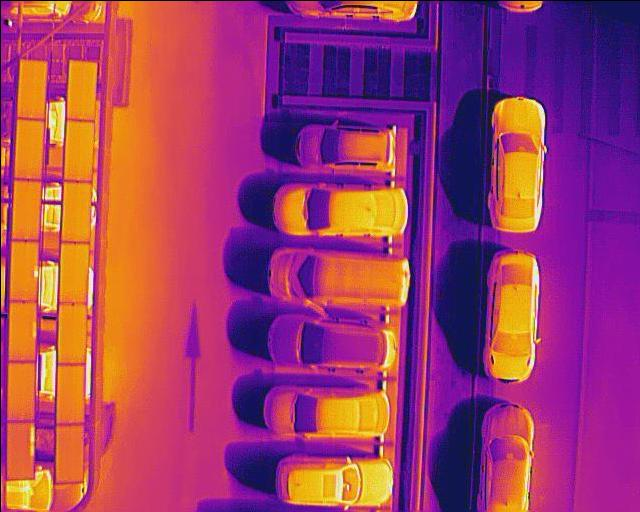Cell: (8, 239, 38, 302)
Cell-Multi: (3, 418, 34, 478)
No-Anomaly: (62, 117, 94, 182), (11, 117, 43, 180), (9, 176, 40, 240), (53, 422, 84, 483), (59, 242, 89, 305), (55, 301, 85, 364), (65, 60, 97, 119), (4, 360, 34, 421), (6, 300, 36, 360), (61, 179, 90, 241), (55, 363, 84, 423), (16, 59, 46, 117)
